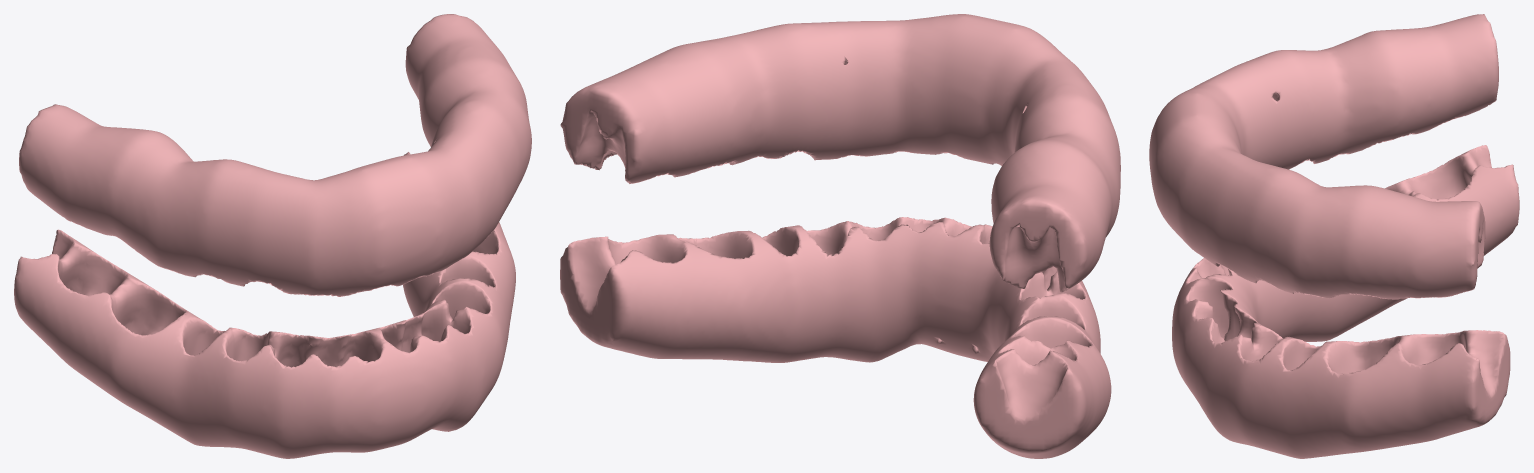
The model's file is gums.glb.
3 renders of one model, left to right at view 1: azimuth 30°, elevation 25°; view 2: azimuth 150°, elevation 25°; view 3: azimuth 270°, elevation 25°, orthographic. The views are drawn at different scales.
Visible parts, largest first — view 1: Gum_Upper, Gum_Lower; view 2: Gum_Upper, Gum_Lower; view 3: Gum_Upper, Gum_Lower.
Boxes of the visible parts, box(x1,y1,x2,y2) form: Gum_Upper: box(19, 14, 531, 296); Gum_Lower: box(14, 152, 515, 458); Gum_Upper: box(560, 14, 1120, 292); Gum_Lower: box(560, 217, 1111, 458); Gum_Upper: box(1149, 14, 1498, 299); Gum_Lower: box(1172, 145, 1519, 458).
Size of the model in its own units: 2.68 by 1.65 by 1.87.
